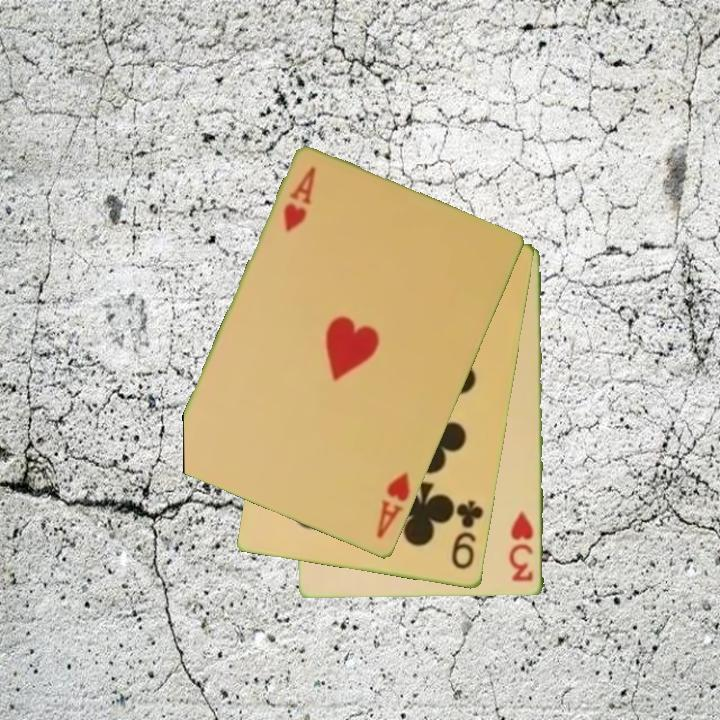3h: (507, 508, 537, 585)
9c: (448, 497, 487, 573)
Ah: (373, 470, 414, 542), (280, 163, 319, 235)
